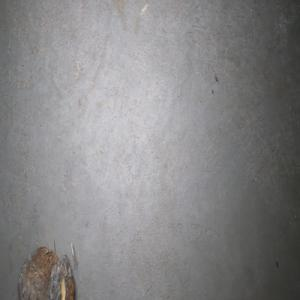Rock: (17, 239, 75, 300)
